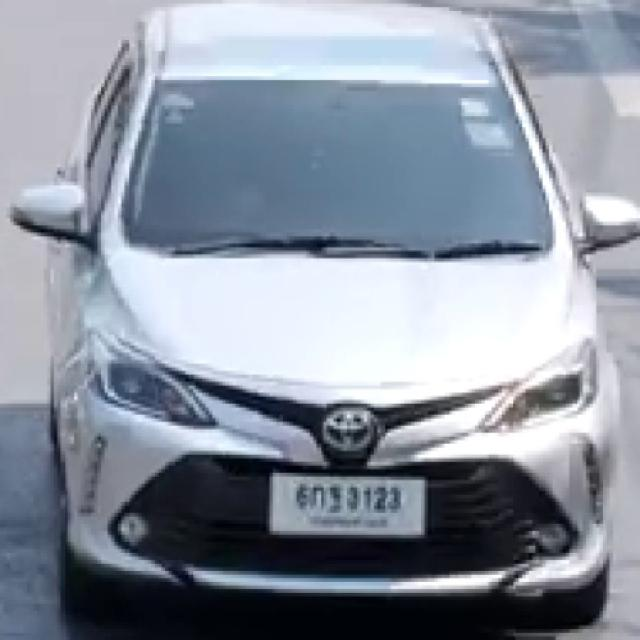plate: (276, 476, 423, 534)
